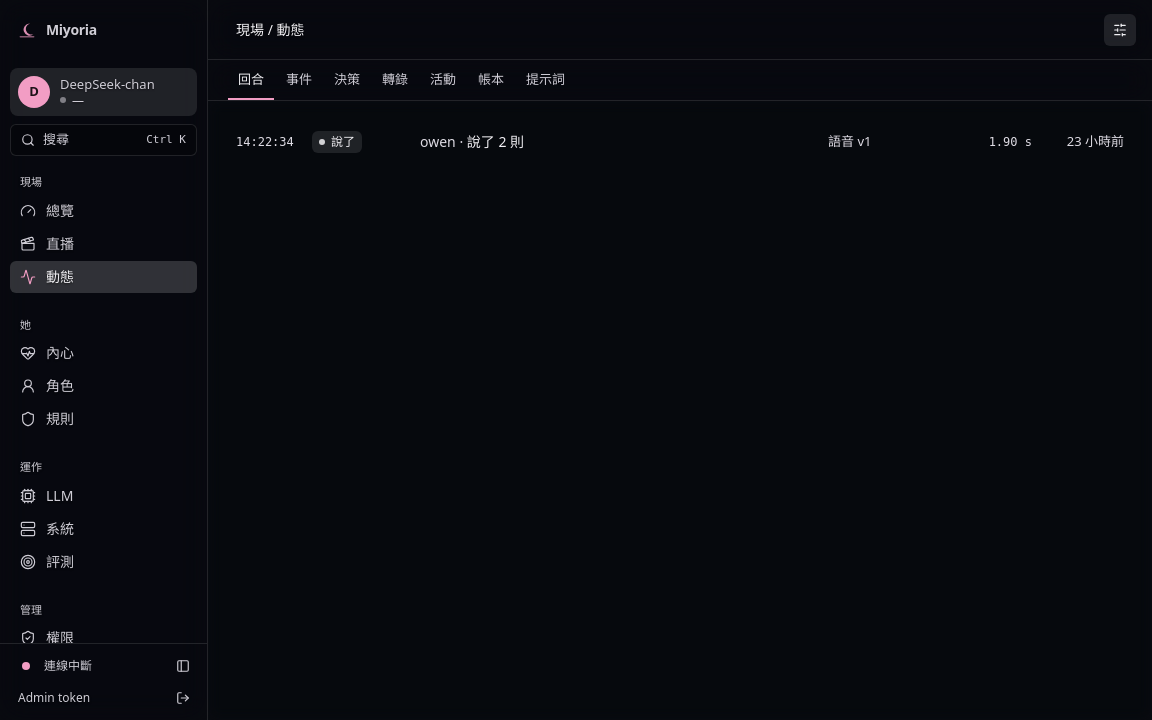
Scenario: 回合 › lists the recent turns and opens one
The image size is (1152, 720).
Click the button "14:22:34 說了 owen · 說了 2 則 語音 v1 1.90 s 23 小時前". click: click(265, 142)
box: [236,121,1124,162]
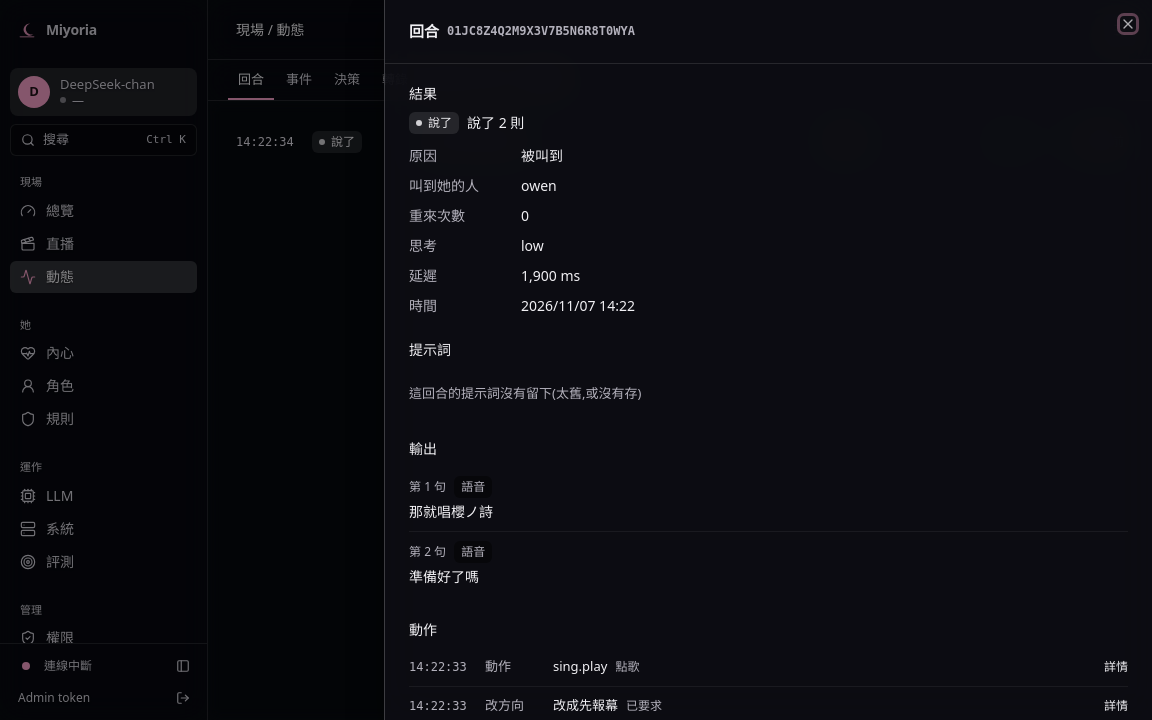
Now the list named "她說的話" is shown, box [409,467,1128,596]
